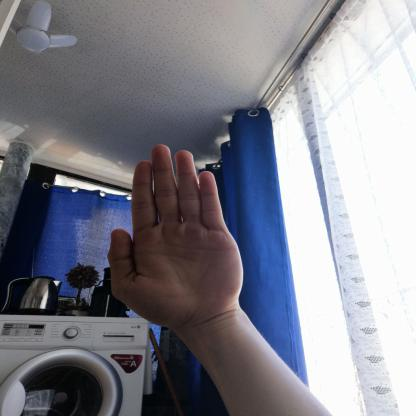SEEN: (94, 136, 253, 336)
